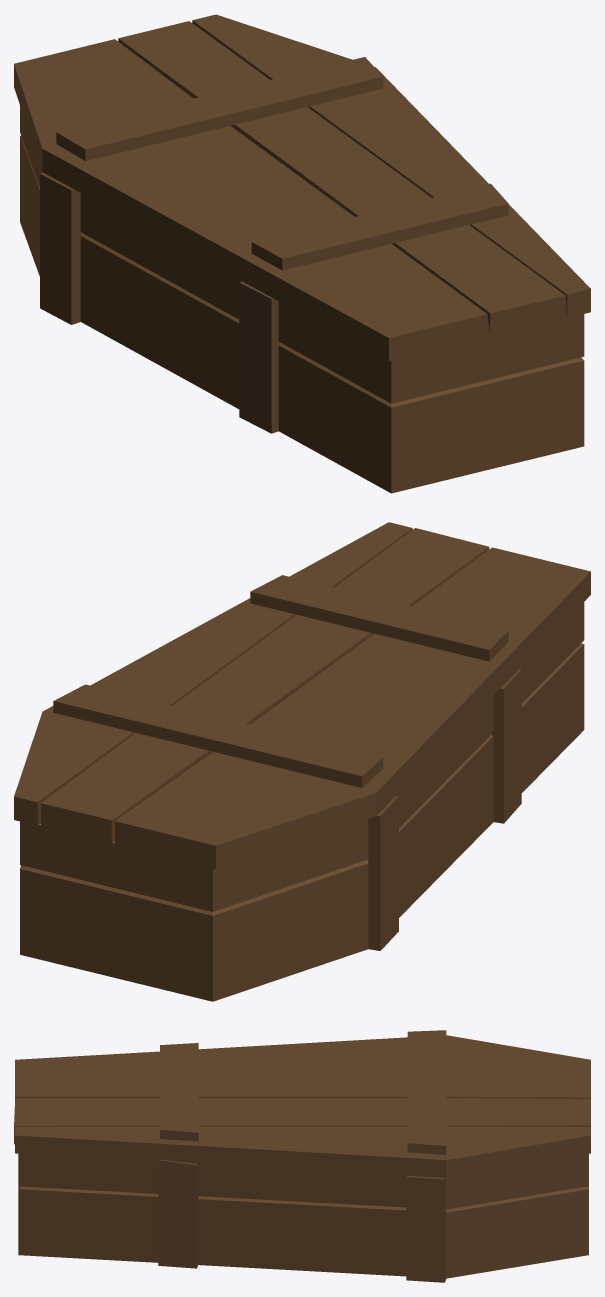
Rendered from fantasy_coffin-wood.fbx.
3 renders of one model, top to bottom at view 1: azimuth 30°, elevation 25°; view 2: azimuth 150°, elevation 25°; view 3: azimuth 270°, elevation 25°, orthographic. The views are drawn at different scales.
Visible parts, largest first — view 1: coffin_wood_cover, coffin_wood_base; view 2: coffin_wood_cover, coffin_wood_base; view 3: coffin_wood_cover, coffin_wood_base.
Part boxes in pixels (box(x1,y1,x2,y2)): coffin_wood_cover: box(14, 14, 590, 361); coffin_wood_base: box(20, 106, 584, 493); coffin_wood_cover: box(14, 522, 590, 868); coffin_wood_base: box(20, 602, 584, 1001); coffin_wood_cover: box(14, 1030, 590, 1177); coffin_wood_base: box(18, 1153, 588, 1282).
Bounding box in the file's own units: 105 × 50.3 × 200.
